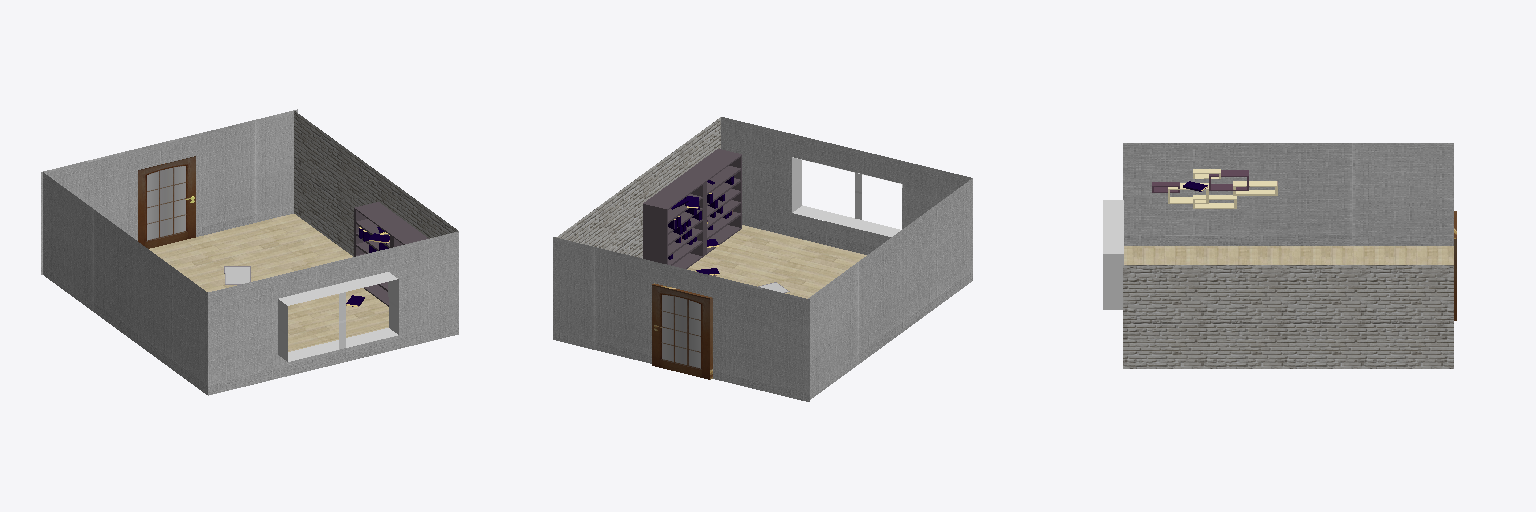
3 views of the same model, side by side, from view 1: azimuth 30°, elevation 25°; view 2: azimuth 150°, elevation 25°; view 3: azimuth 270°, elevation 25° (orthographic).
Visible parts, largest first — view 1: Плоскость.035_Плоскость.002, Плоскость.035_Плоскость.004_Плоскость.035_Плоскость.005, Плоскость.035_Плоскость.001; view 2: Плоскость.035_Плоскость.002, Плоскость.035_Плоскость.004_Плоскость.035_Плоскость.005, Плоскость.035_Плоскость.001; view 3: Плоскость.035_Плоскость.002.
Boxes of the visible parts, <box> form: Плоскость.035_Плоскость.002: <box>43,111,458,395</box>; Плоскость.035_Плоскость.004_Плоскость.035_Плоскость.005: <box>41,109,297,274</box>; Плоскость.035_Плоскость.001: <box>138,156,195,248</box>; Плоскость.035_Плоскость.002: <box>556,117,972,399</box>; Плоскость.035_Плоскость.004_Плоскость.035_Плоскость.005: <box>553,237,809,401</box>; Плоскость.035_Плоскость.001: <box>652,283,712,379</box>; Плоскость.035_Плоскость.002: <box>1103,143,1453,368</box>.
Bounding box in the file's own units: 13.82 × 5.3 × 16.52.
2 materials, 1 textured.